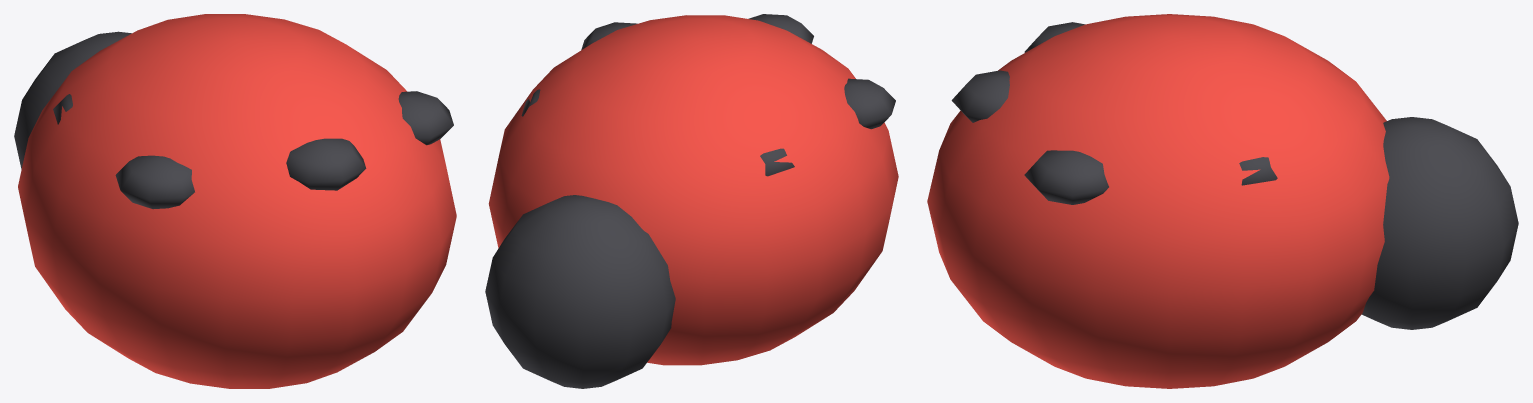
File: marienkaefer.glb
3 views of the same model, side by side, from view 1: azimuth 30°, elevation 25°; view 2: azimuth 150°, elevation 25°; view 3: azimuth 270°, elevation 25° (orthographic). The views are drawn at different scales.
Visible parts, largest first — view 1: marienkaefer_lod0; view 2: marienkaefer_lod0; view 3: marienkaefer_lod0.
Part boxes in pixels (x1=…): marienkaefer_lod0: x1=14, y1=14, x2=456, y2=388; marienkaefer_lod0: x1=485, y1=14, x2=898, y2=388; marienkaefer_lod0: x1=927, y1=14, x2=1518, y2=388.
Size of what is drawn, in the model's own units: 0.9 by 0.75 by 1.22.
